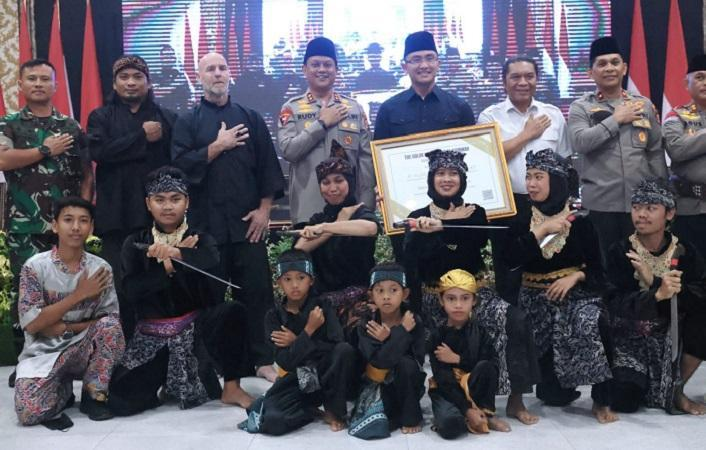facao: (131, 240, 244, 299), (501, 210, 578, 278), (396, 216, 511, 239)
